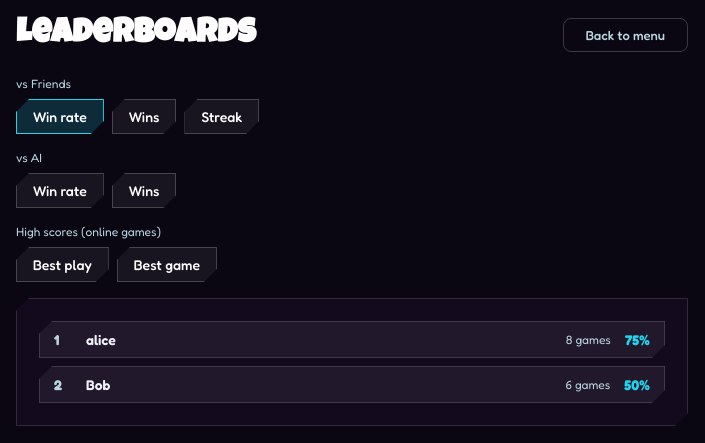
Test: switching to a different board tab re-fetches and renders its rows
Expected: the text "alice" is shown, [86,331,116,348]
Click the button "Wins" below "vs AI" at (144, 190), box [112,173,176,208]
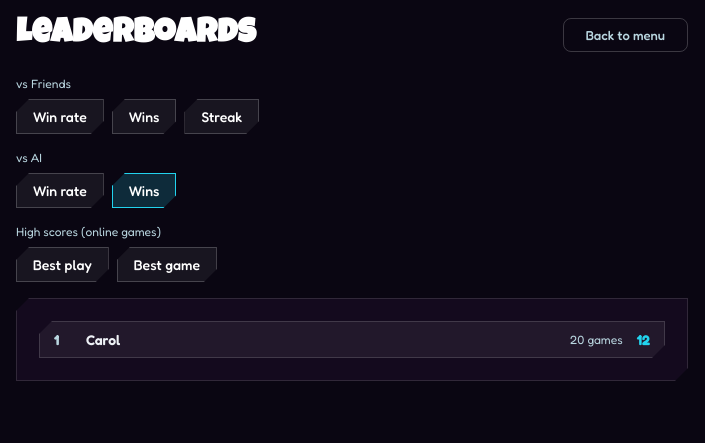
Now the text "Carol" is shown, box [86,331,120,348]
